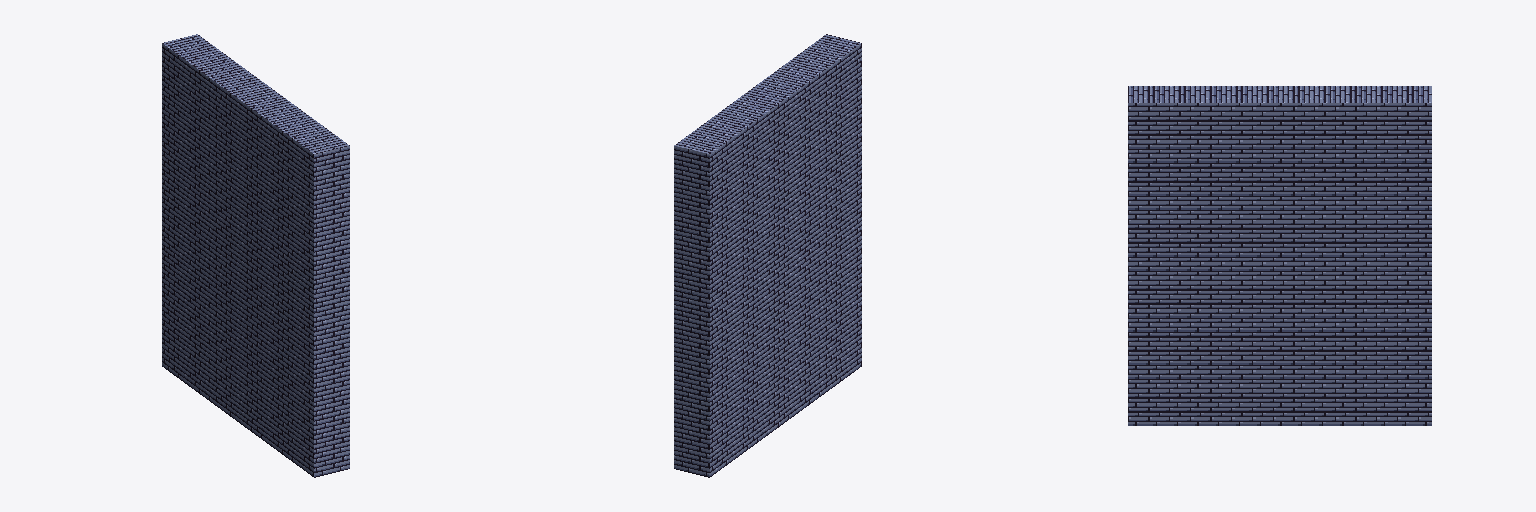
3 views of the same model, side by side, from view 1: azimuth 30°, elevation 25°; view 2: azimuth 150°, elevation 25°; view 3: azimuth 270°, elevation 25° (orthographic).
Parts seen in each view (by area): view 1: Cube (1); view 2: Cube (1); view 3: Cube (1).
Boxes of the visible parts, x1=… form: Cube (1): x1=162, y1=34, x2=349, y2=477; Cube (1): x1=674, y1=34, x2=861, y2=477; Cube (1): x1=1128, y1=86, x2=1431, y2=425.
Bounding box in the file's own units: 2 × 17.22 × 14.7.
Materials: 1 (1 with a texture image).